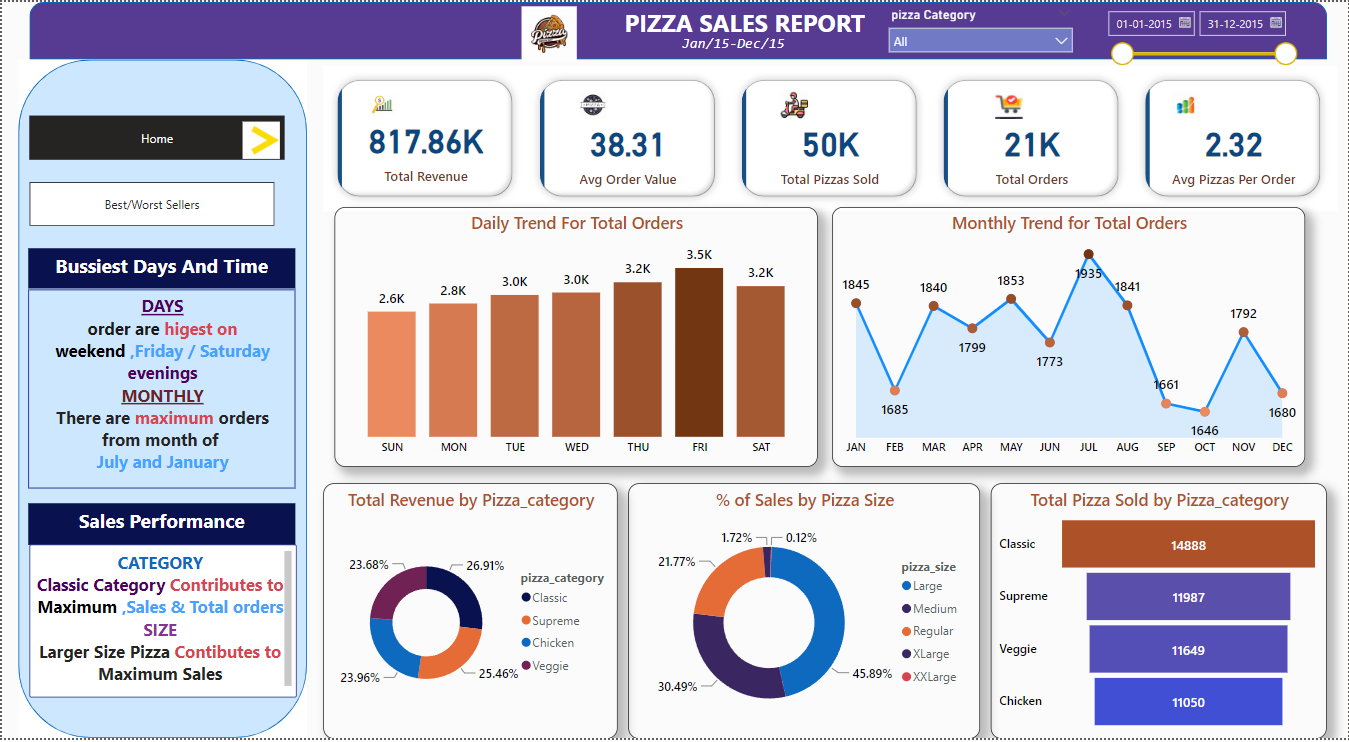

What the dashboard file says about the page in this screenshot:
{"tool":"powerbi","page":{"name":"Home","canvas":[1500,820],"ordinal":0},"visuals":[{"type":"shape","box":[17.7,64.3,321.6,755.8],"z":0},{"type":"cardVisual","fields":{"Data":["pizza_sales.Total Revenue","pizza_sales.Avg Order Value","pizza_sales.Total Pizzas Sold","pizza_sales.Total Orders","pizza_sales.Avg Pizzas Per Order"]},"box":[358.6,70.8,1130.5,162.4],"z":1000},{"type":"shape","box":[125.4,0,1350.8,64.3],"z":2000},{"type":"textbox","box":[651.3,0,358.6,45],"z":3000},{"type":"textbox","box":[715.6,32.2,197.8,38.6],"z":4000},{"type":"image","box":[601.4,0,85.2,70.8],"z":5000},{"type":"columnChart","title":"Daily Trend For Total Orders","fields":{"Y":["pizza_sales.Total Orders"],"Category":["pizza_sales.Order Day"]},"box":[369.9,228.3,538.7,289.5],"z":6000},{"type":"areaChart","title":"Monthly Trend for Total Orders","fields":{"Y":["pizza_sales.Total Orders"],"Category":["pizza_sales.Order Month"]},"box":[924.6,228.3,527.4,289.5],"z":7000},{"type":"donutChart","title":"Total Revenue by Pizza_category","fields":{"Category":["pizza_sales.pizza_category"],"Y":["pizza_sales.Total Revenue"]},"box":[358.6,535.5,328,284.6],"z":8000},{"type":"funnel","title":"Total Pizza Sold by Pizza_category","fields":{"Category":["pizza_sales.pizza_category"],"Y":["pizza_sales.Total Pizzas Sold"]},"box":[1101.5,535.5,374.7,284.6],"z":9000},{"type":"donutChart","title":"% of Sales by Pizza Size","fields":{"Category":["pizza_sales.pizza_size"],"Y":["pizza_sales.Total Revenue"]},"box":[697.9,535.5,392.4,284.6],"z":10000},{"type":"textbox","box":[28.9,275,297.5,45],"z":11000},{"type":"textbox","box":[28.9,320,297.5,221.9],"z":12000},{"type":"textbox","box":[28.9,558,297.5,46.6],"z":13000},{"type":"textbox","box":[30.6,604.6,297.5,170.5],"z":14000},{"type":"slicer","fields":{"Values":["pizza_sales.order_date"]},"box":[1220.5,0,231.6,82],"z":15000},{"type":"slicer","fields":{"Values":["pizza_sales.pizza_category"]},"box":[977.7,0,225.1,82],"z":16000},{"type":"pageNavigator","box":[30.6,201,273.4,49.9],"z":17000},{"type":"pageNavigator","box":[30.6,127,284.6,49.9],"z":18000},{"type":"image","box":[263.7,109.3,51.5,88.4],"z":19000}]}

Visuals, with their boxes in screenshot pixels (x1, y1, x2, y2), scaled from the page's 1500x820 canvas onto the 1349x742 screenshot:
shape: x1=16 y1=58 x2=305 y2=741
cardVisual - pizza_sales.Total Revenue x pizza_sales.Avg Order Value: x1=323 y1=64 x2=1339 y2=211
shape: x1=113 y1=0 x2=1328 y2=58
textbox: x1=586 y1=0 x2=908 y2=41
textbox: x1=644 y1=29 x2=821 y2=64
image: x1=541 y1=0 x2=617 y2=64
"Daily Trend For Total Orders" columnChart: x1=333 y1=207 x2=817 y2=469
"Monthly Trend for Total Orders" areaChart: x1=832 y1=207 x2=1306 y2=469
"Total Revenue by Pizza_category" donutChart: x1=323 y1=485 x2=617 y2=741
"Total Pizza Sold by Pizza_category" funnel: x1=991 y1=485 x2=1328 y2=741
"% of Sales by Pizza Size" donutChart: x1=628 y1=485 x2=981 y2=741
textbox: x1=26 y1=249 x2=294 y2=290
textbox: x1=26 y1=290 x2=294 y2=490
textbox: x1=26 y1=505 x2=294 y2=547
textbox: x1=28 y1=547 x2=295 y2=701
slicer - pizza_sales.order_date: x1=1098 y1=0 x2=1306 y2=74
slicer - pizza_sales.pizza_category: x1=879 y1=0 x2=1082 y2=74
pageNavigator: x1=28 y1=182 x2=273 y2=227
pageNavigator: x1=28 y1=115 x2=283 y2=160
image: x1=237 y1=99 x2=283 y2=179
